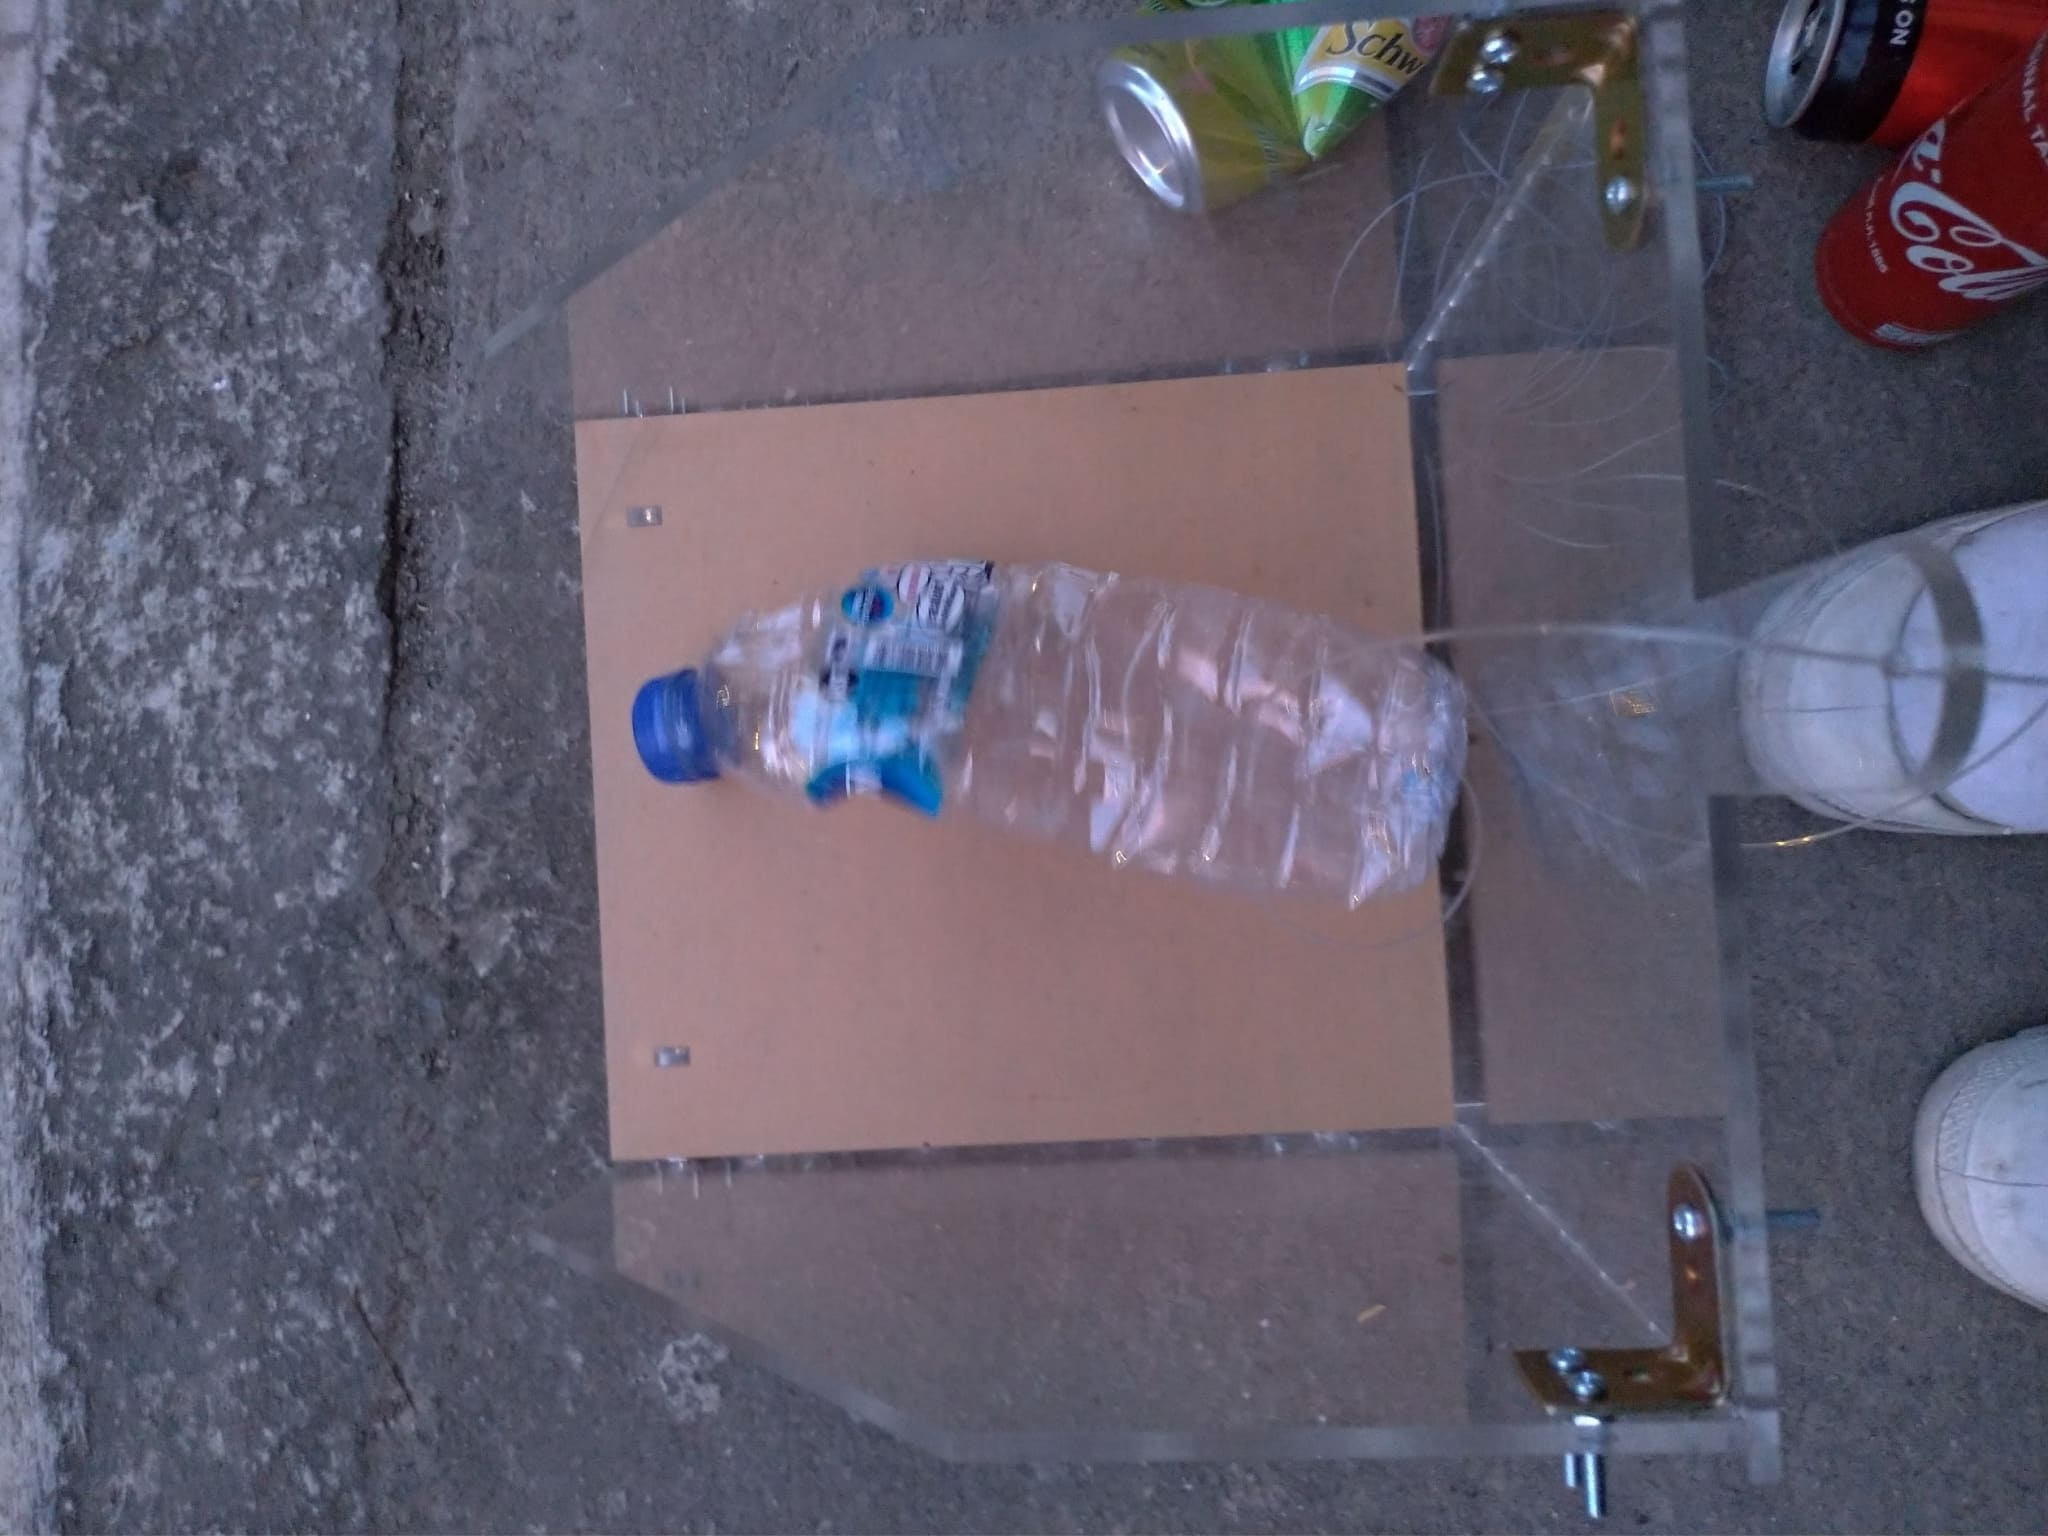AlCan: (1101, 6, 1471, 216), (1821, 32, 2048, 353), (1761, 6, 2009, 155)
PlasticBottle: (632, 560, 1467, 907)
